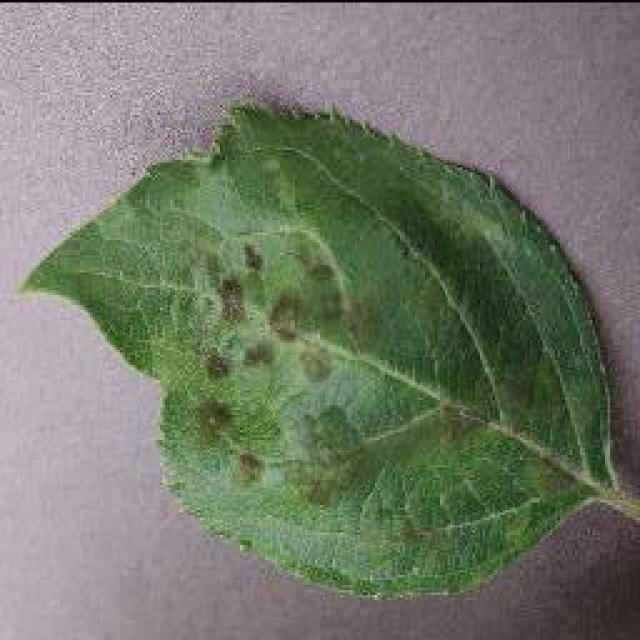apple scab disease: (17, 95, 625, 600)
